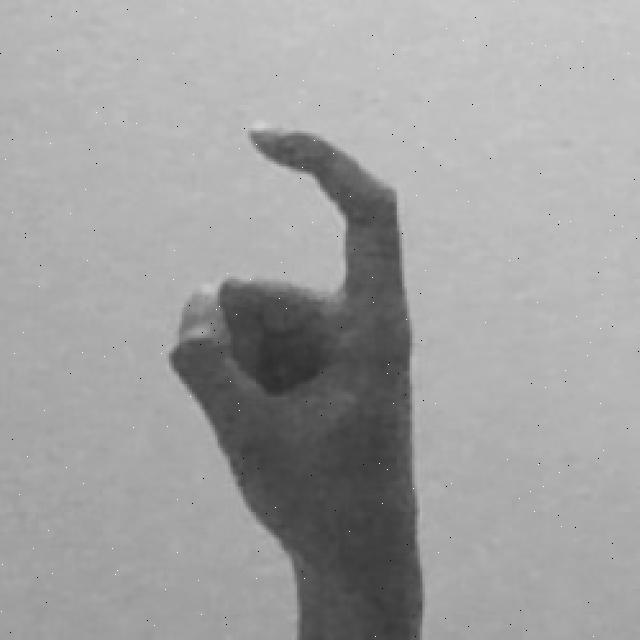X: (156, 115, 438, 640)
